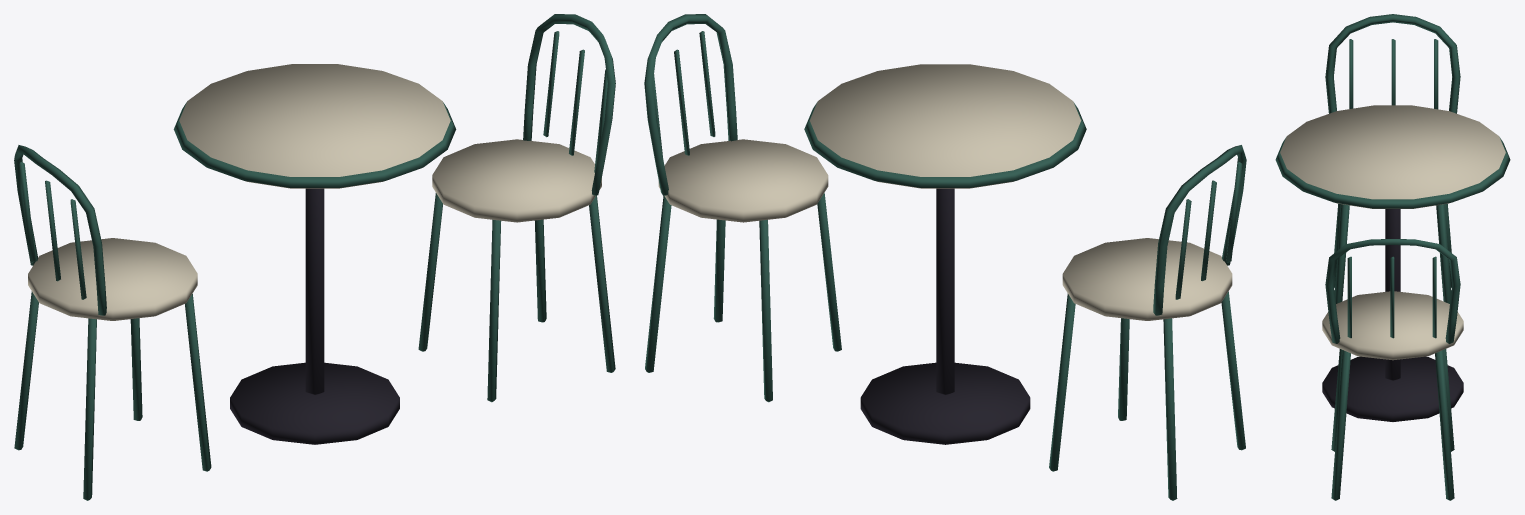
The model's file is cafe_table_set.glb.
3 views of the same model, side by side, from view 1: azimuth 30°, elevation 25°; view 2: azimuth 150°, elevation 25°; view 3: azimuth 270°, elevation 25° (orthographic). The views are drawn at different scales.
Parts seen in each view (by area): view 1: cafe_table_set; view 2: cafe_table_set; view 3: cafe_table_set.
Boxes of the visible parts, box(x1,y1,x2,y2) form: cafe_table_set: box(14, 14, 615, 500); cafe_table_set: box(644, 14, 1246, 500); cafe_table_set: box(1275, 14, 1510, 500).
Size of the model in its own units: 1.52 by 0.8383 by 0.666.
